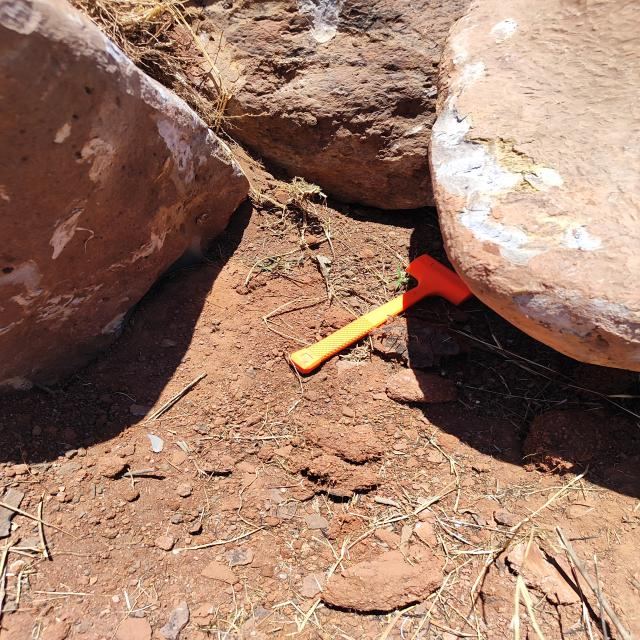Orange_hammer: (286, 253, 473, 375)
